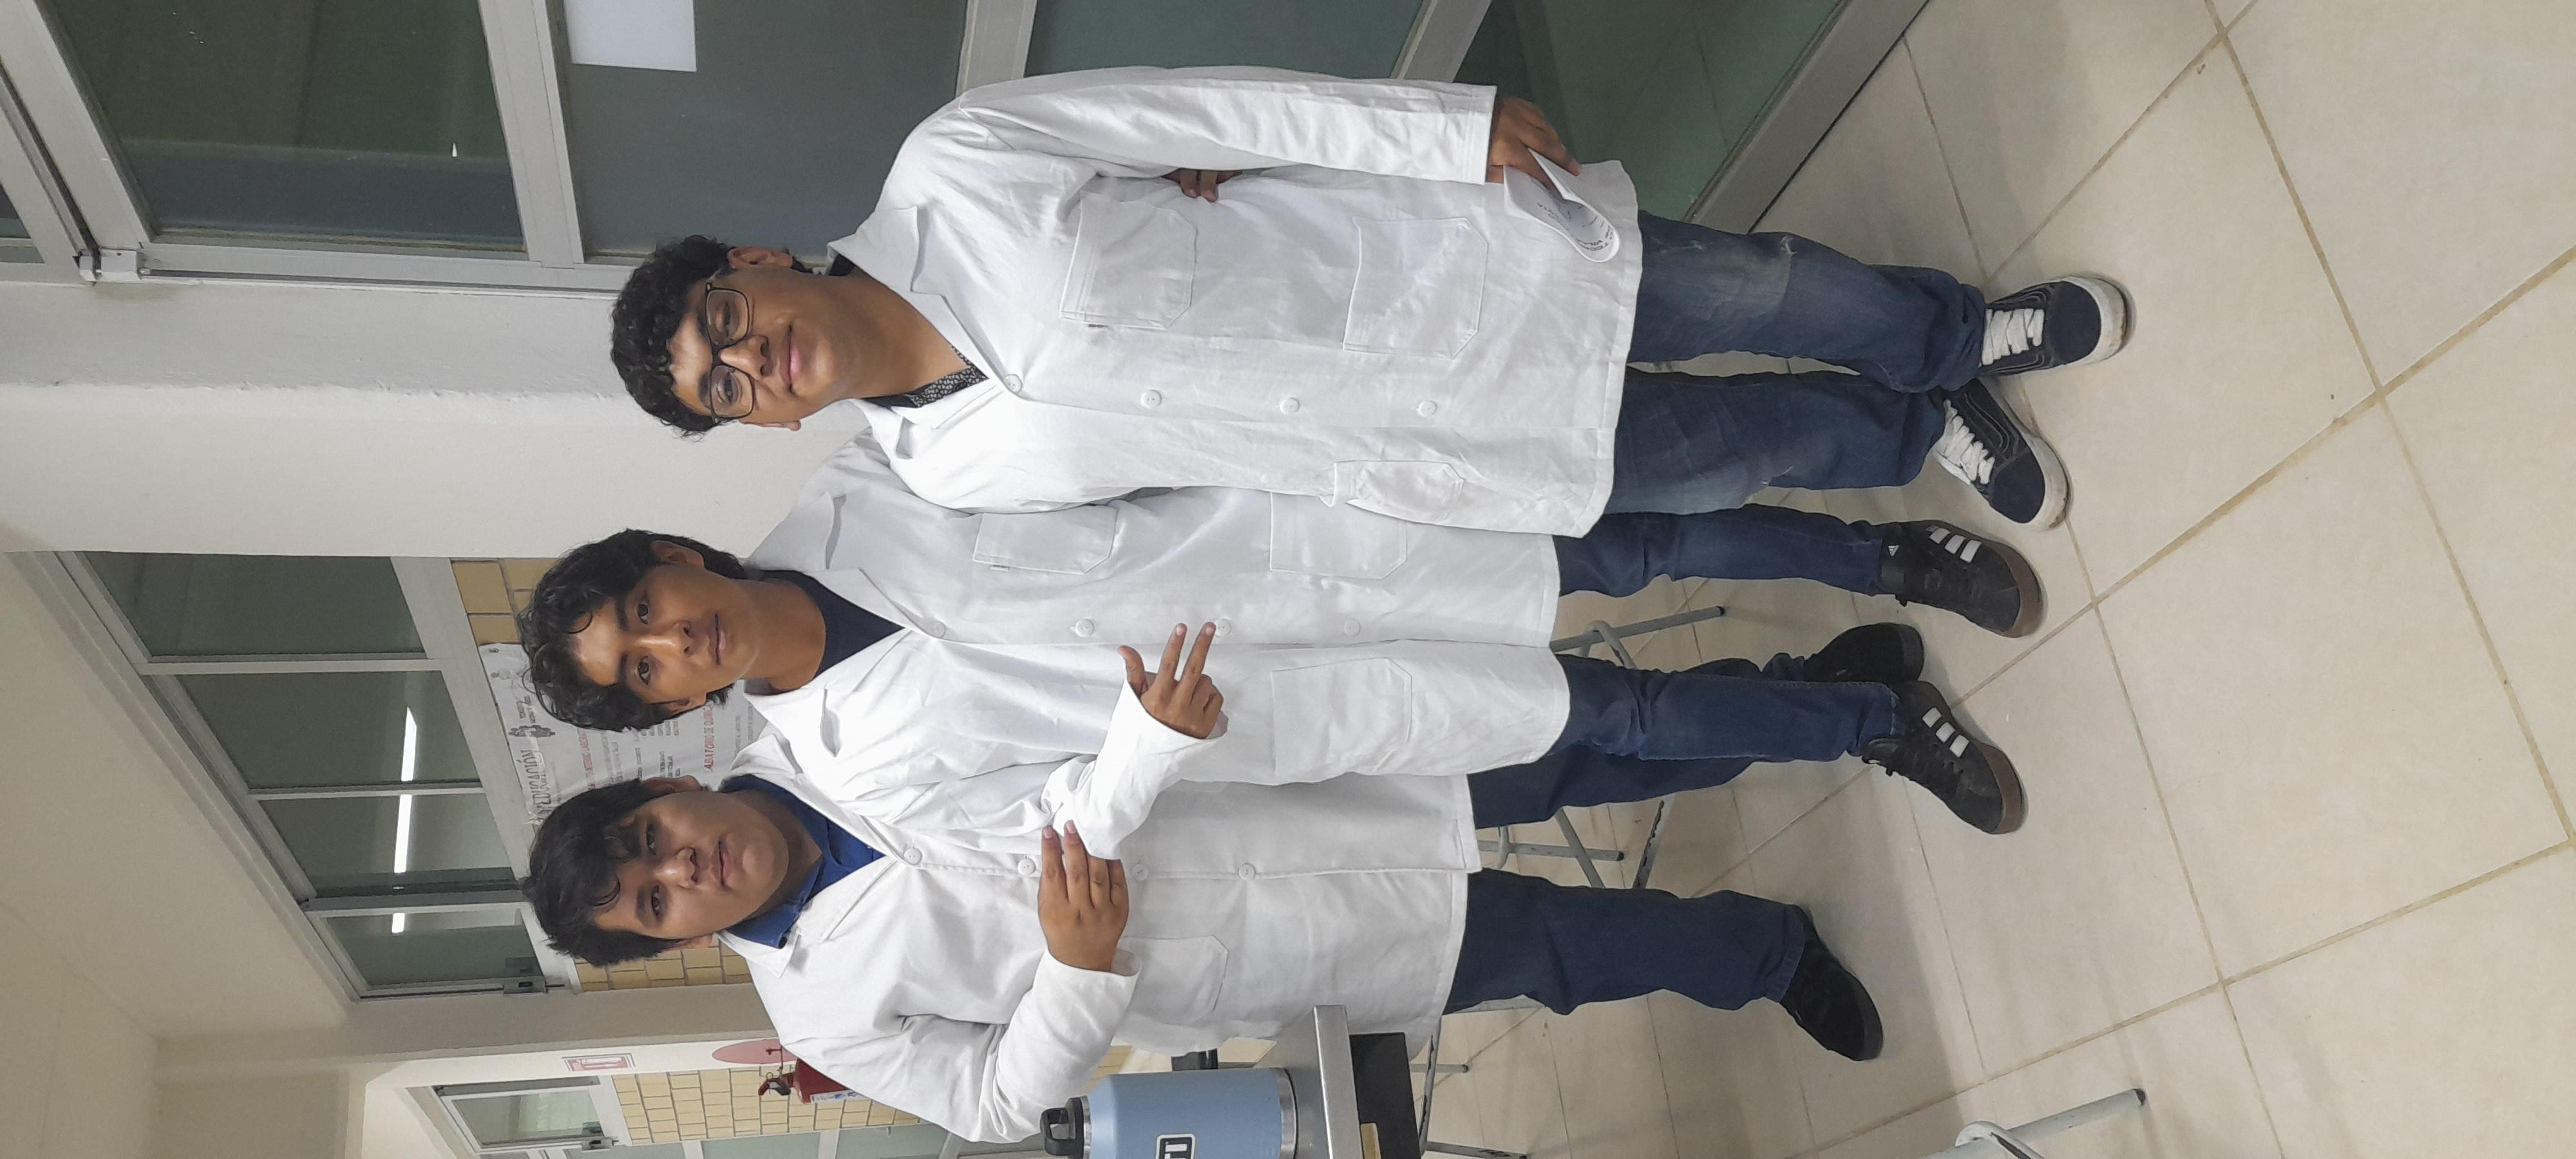Bata-Correcta: (0, 200, 2504, 970)
